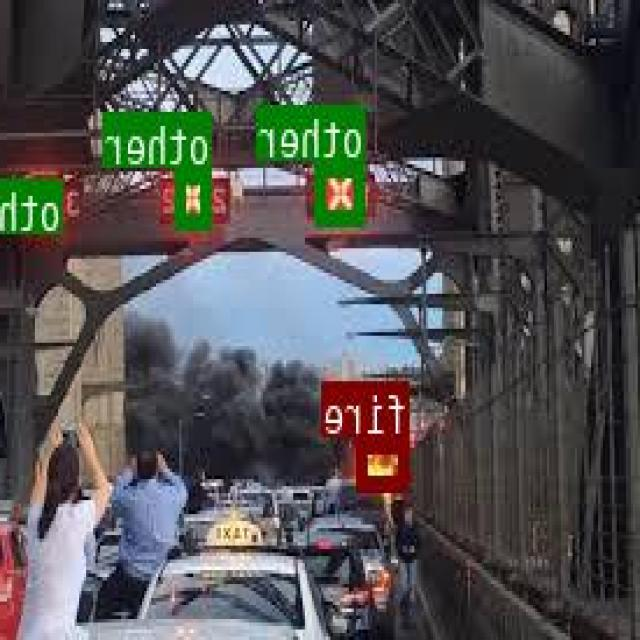fire: (360, 435, 412, 489)
other: (317, 158, 367, 221), (179, 165, 213, 224), (34, 177, 64, 226)
